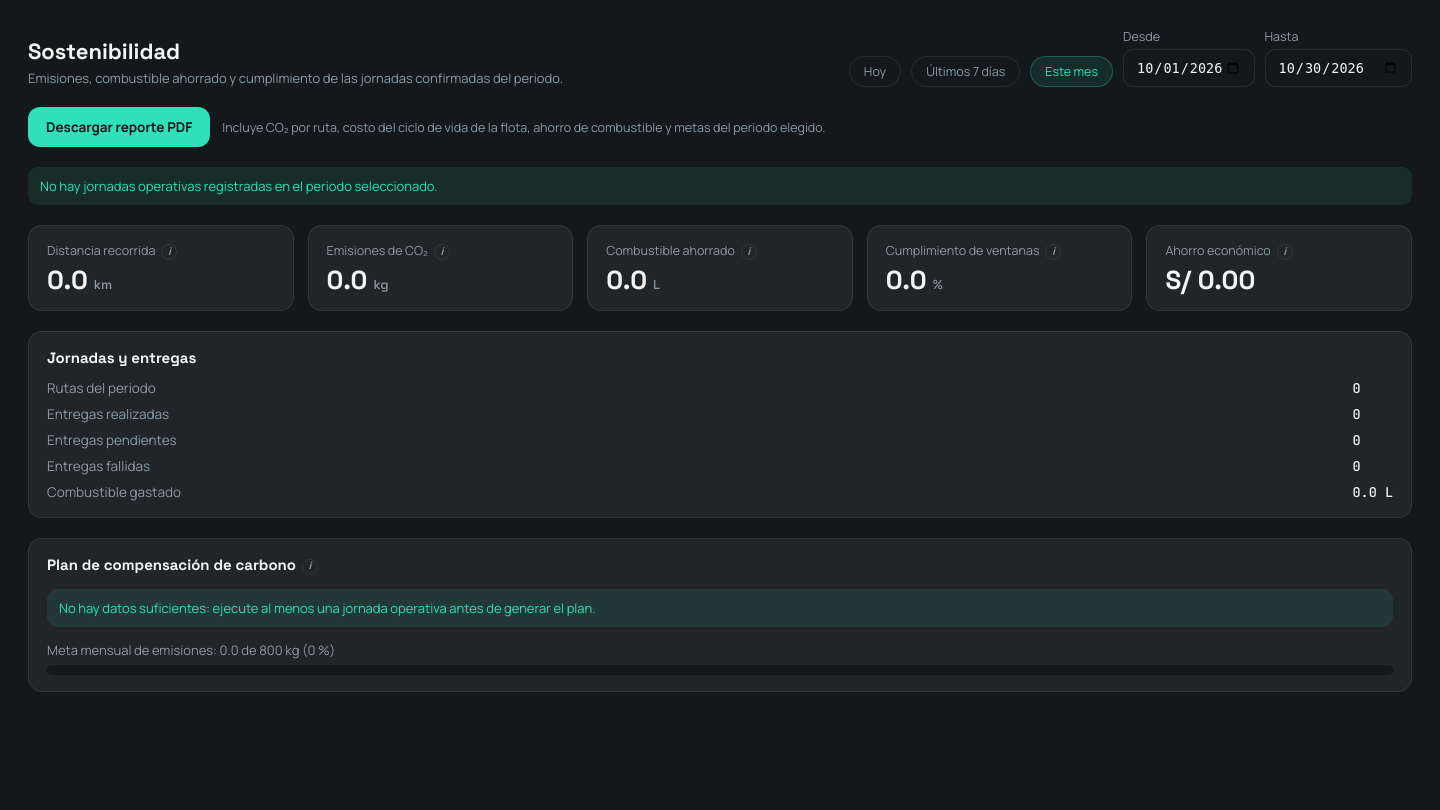
SostenibilidadPage › si el periodo no tiene datos, el reporte muestra el aviso de la API y no descarga nada
Expected: the text "S/ 0.00" is shown, [1165,263,1255,297]
Click the button "Descargar reporte PDF": x=119, y=127 [28,107,210,147]
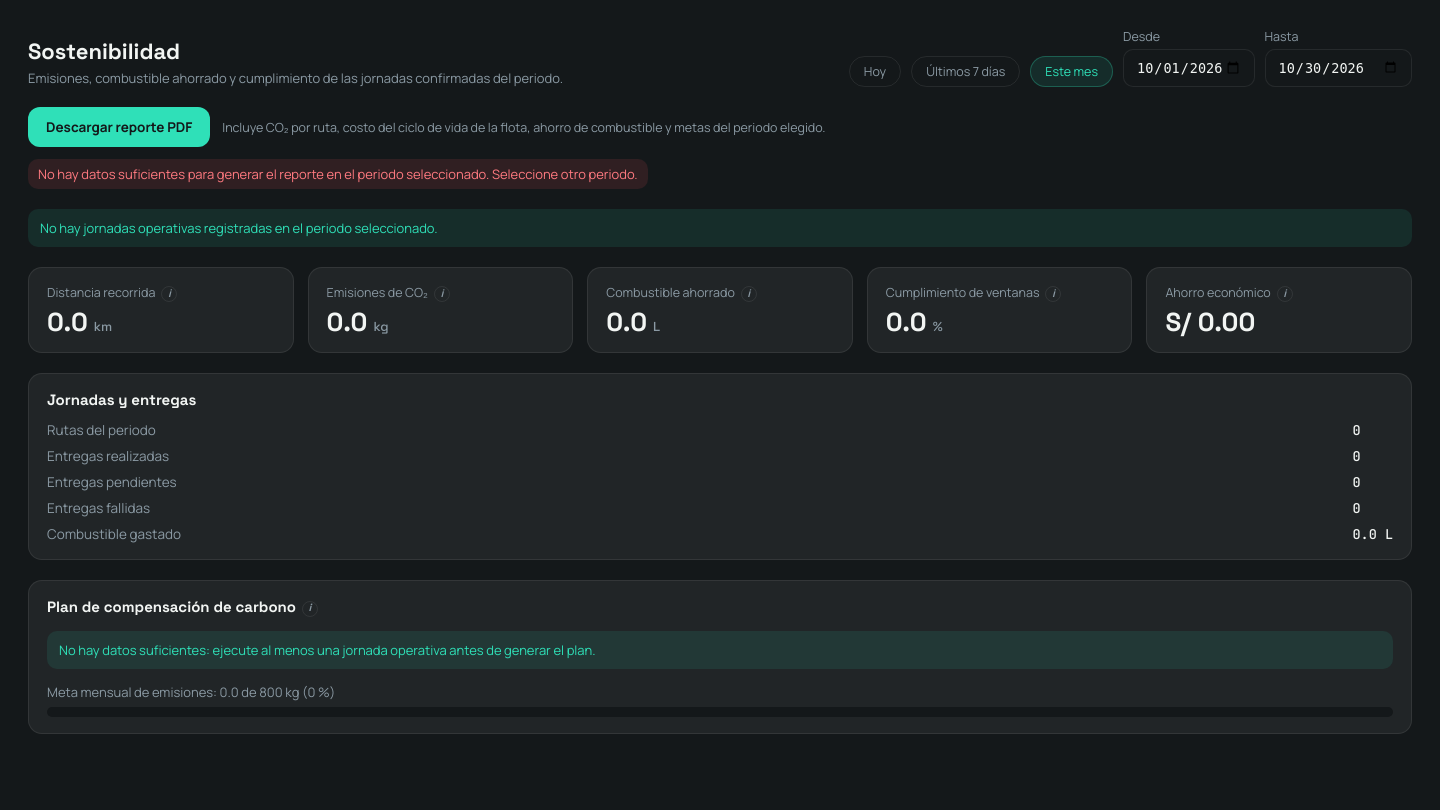
Result: the text "Seleccione otro periodo" is shown at [38,165,638,183]
